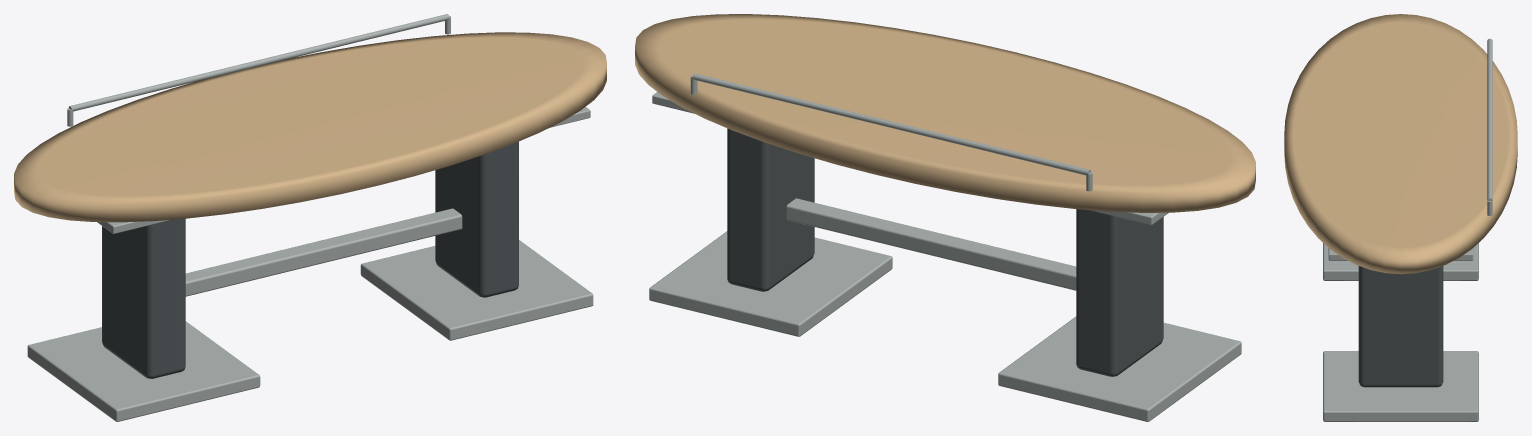
File: coffee-roastery-and-cupping-room-coffee-roastery-and-c-f96f69c7__32209.glb
3 renders of one model, left to right at view 1: azimuth 30°, elevation 25°; view 2: azimuth 150°, elevation 25°; view 3: azimuth 270°, elevation 25°, orthographic. The views are drawn at different scales.
Visible parts, largest first — view 1: coffee-roastery-and-cupping-room-cupping-table; view 2: coffee-roastery-and-cupping-room-cupping-table; view 3: coffee-roastery-and-cupping-room-cupping-table.
Part boxes in pixels (bbox=[...]): coffee-roastery-and-cupping-room-cupping-table: bbox=[14, 14, 606, 421]; coffee-roastery-and-cupping-room-cupping-table: bbox=[635, 14, 1255, 421]; coffee-roastery-and-cupping-room-cupping-table: bbox=[1284, 14, 1517, 421].
Size of the model in its own units: 2.6 by 1.01 by 1.05.
